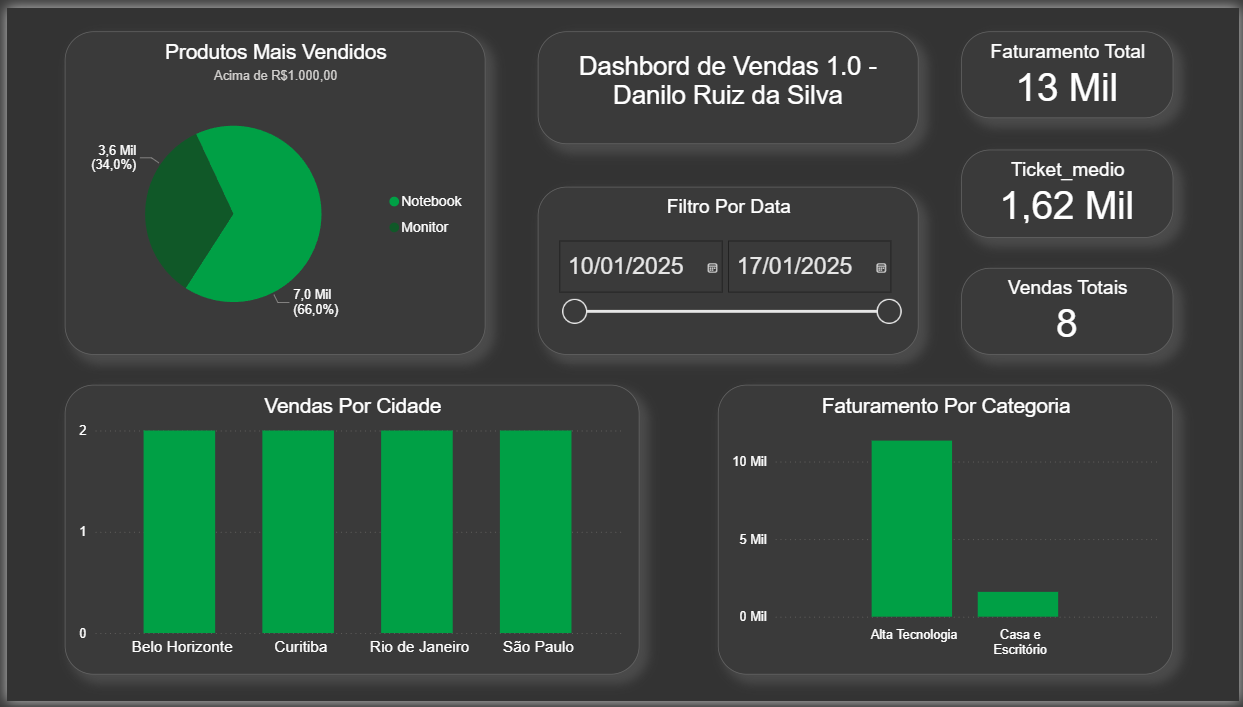

Layout of this report page (visuals, bound fields, positions):
{"tool":"powerbi","page":{"name":"Página 1","canvas":[1280,720],"ordinal":0},"visuals":[{"type":"card","title":"Faturamento Total","fields":{"Values":["Sum(TB-fato_vendas.faturamento)"]},"box":[991.4,24.3,220,90],"z":0},{"type":"card","title":"Vendas Totais","fields":{"Values":["Count(TB-fato_vendas.id_venda)"]},"box":[991.4,270,220,90],"z":1000},{"type":"card","title":"Ticket_medio","fields":{"Values":["medidas.Ticket_medio"]},"box":[991.4,147.1,220,91.4],"z":2000},{"type":"columnChart","title":"Faturamento Por Categoria","fields":{"Y":["Sum(TB-fato_vendas.faturamento)"],"Category":["TB-fato_vendas.categoria"]},"box":[738.6,391.4,472.9,301.4],"z":3000},{"type":"columnChart","title":"Vendas Por Cidade","fields":{"Y":["Count(TB-fato_vendas.id_venda)"],"Category":["TB-fato_vendas.cidade"]},"box":[60,391.4,597.1,301.4],"z":4000},{"type":"pieChart","title":"Produtos Mais Vendidos","fields":{"Category":["TB-fato_vendas.nome_produto"],"Y":["Sum(TB-fato_vendas.faturamento)"]},"box":[60,24.3,437.1,335.7],"z":5000},{"type":"textbox","box":[551.4,24.3,395.7,117.1],"z":6000},{"type":"slicer","title":"Filtro Por Data","fields":{"Values":["TB-fato_vendas.data_venda"]},"box":[551.4,185.7,395.7,174.3],"z":7000}]}

Visuals, with their boxes in screenshot pixels (x1, y1, x2, y2), scaled from the page's 1280x720 canvas onto the 1243x707 screenshot:
"Faturamento Total" card: <region>963, 24, 1176, 112</region>
"Vendas Totais" card: <region>963, 265, 1176, 354</region>
"Ticket_medio" card: <region>963, 144, 1176, 234</region>
"Faturamento Por Categoria" columnChart: <region>717, 384, 1176, 680</region>
"Vendas Por Cidade" columnChart: <region>58, 384, 638, 680</region>
"Produtos Mais Vendidos" pieChart: <region>58, 24, 483, 354</region>
textbox: <region>535, 24, 920, 139</region>
"Filtro Por Data" slicer: <region>535, 182, 920, 354</region>
